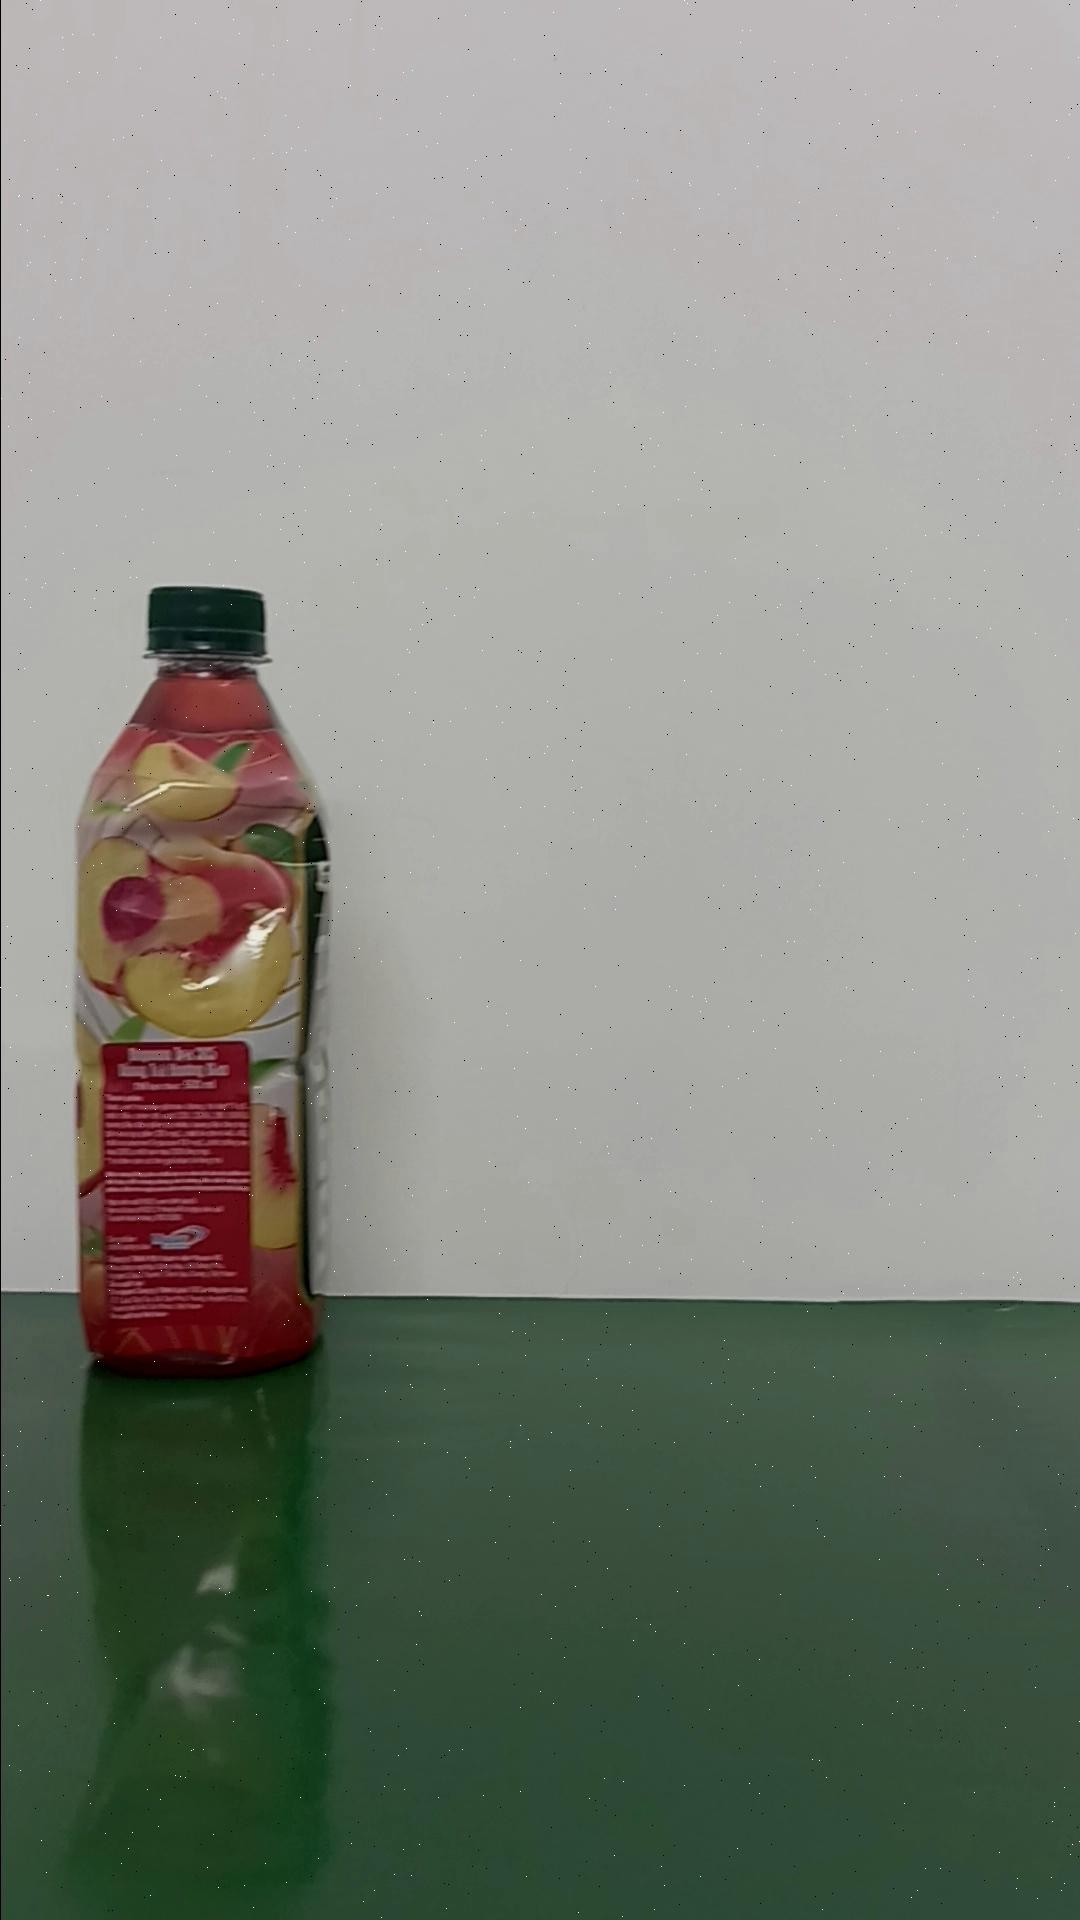loi meo sp: (70, 583, 331, 1377)
